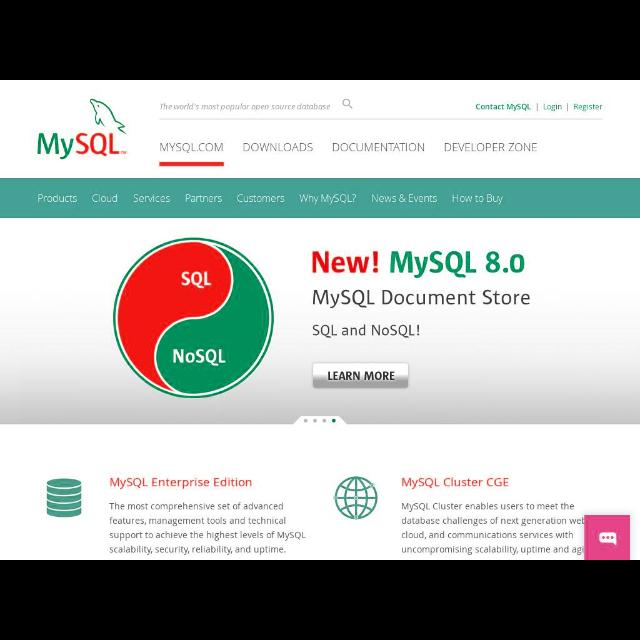button: (584, 516, 630, 558)
icon: (598, 532, 616, 544), (342, 98, 352, 110)
image: (1, 218, 639, 424), (35, 100, 128, 156), (336, 476, 378, 520), (44, 479, 82, 516)
multitab: (1, 178, 639, 218)
pageindicator: (303, 418, 337, 424)
text: (110, 502, 306, 554), (401, 500, 585, 554), (158, 102, 332, 112), (110, 476, 250, 486), (444, 142, 540, 154), (400, 477, 510, 487), (244, 140, 314, 154), (332, 142, 424, 152), (159, 142, 225, 154), (298, 192, 358, 205), (372, 193, 436, 205), (451, 192, 503, 205), (237, 193, 285, 205), (474, 102, 532, 111), (38, 194, 76, 204), (185, 193, 222, 203), (92, 193, 118, 205), (134, 195, 170, 203), (574, 103, 602, 111), (542, 102, 564, 112)
